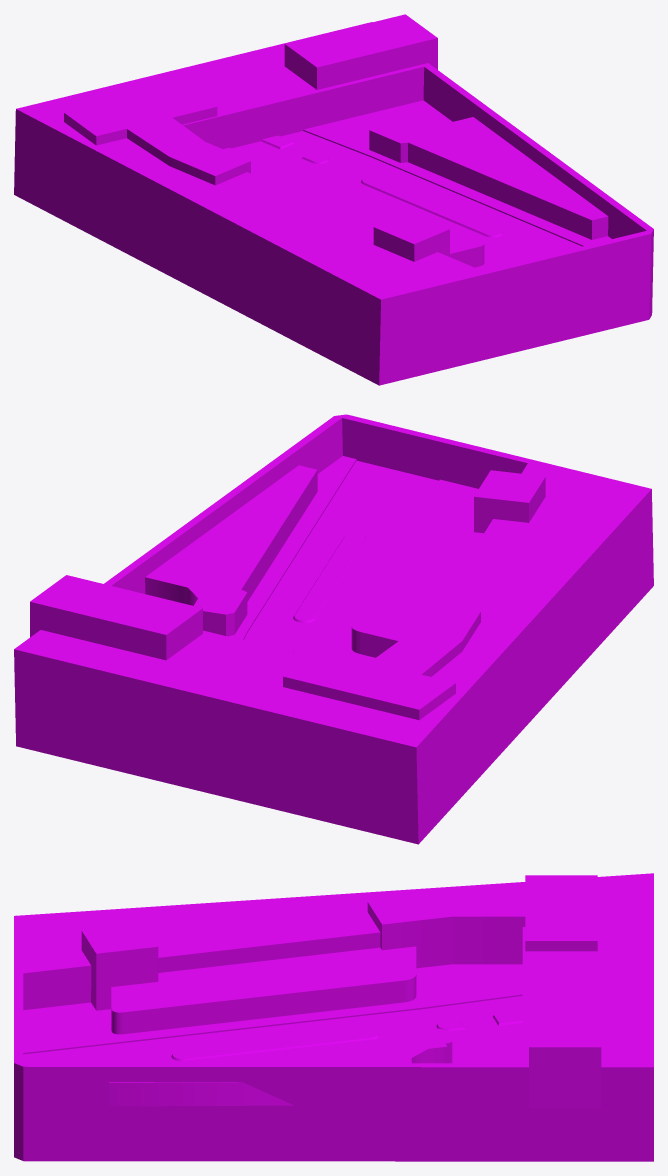
The model's file is map_collider.FBX.
3 renders of one model, top to bottom at view 1: azimuth 30°, elevation 25°; view 2: azimuth 150°, elevation 25°; view 3: azimuth 270°, elevation 25°, orthographic. The views are drawn at different scales.
Visible parts, largest first — view 1: COLLIDER_WALL (×8), COLLIDER_GROUND (×2); view 2: COLLIDER_WALL (×8), COLLIDER_GROUND (×2); view 3: COLLIDER_WALL (×8), COLLIDER_GROUND (×2).
Part boxes in pixels (bbox=[...]): COLLIDER_WALL (×8): bbox=[14, 14, 653, 385]; COLLIDER_GROUND (×2): bbox=[223, 100, 611, 270]; COLLIDER_WALL (×8): bbox=[14, 414, 653, 844]; COLLIDER_GROUND (×2): bbox=[228, 456, 478, 661]; COLLIDER_WALL (×8): bbox=[14, 873, 653, 1161]; COLLIDER_GROUND (×2): bbox=[23, 964, 522, 1063].
Bounding box in the file's own units: 7545 × 10189 × 2117.
